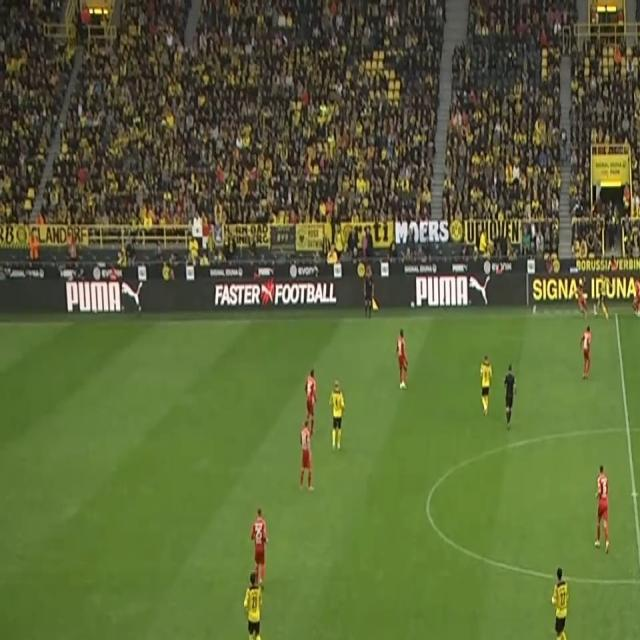ball: (592, 308, 599, 320)
